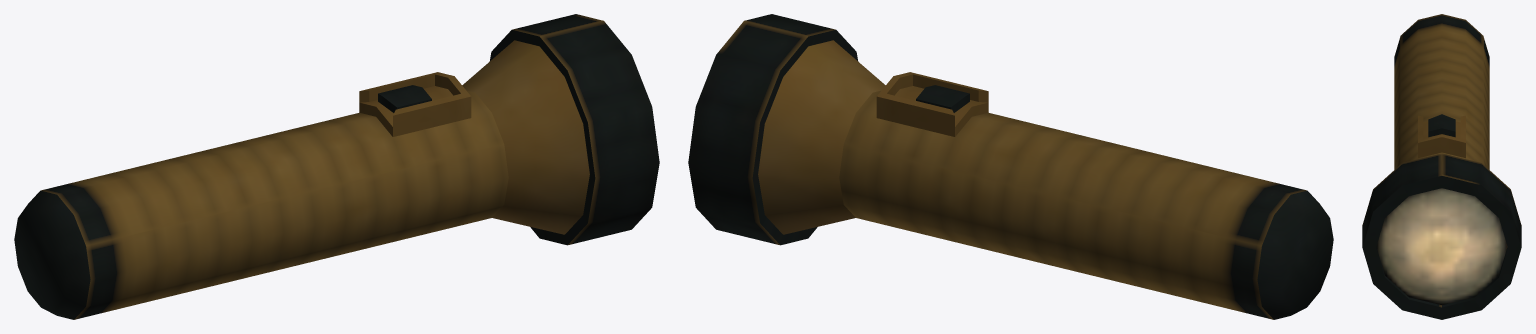
File: flashlight_mp_1.fbx
3 renders of one model, left to right at view 1: azimuth 30°, elevation 25°; view 2: azimuth 150°, elevation 25°; view 3: azimuth 270°, elevation 25°, orthographic. The views are drawn at different scales.
Visible parts, largest first — view 1: flashlight_mp_1; view 2: flashlight_mp_1; view 3: flashlight_mp_1.
Boxes of the visible parts, <box> form: flashlight_mp_1: <box>14,14,659,319</box>; flashlight_mp_1: <box>688,14,1333,319</box>; flashlight_mp_1: <box>1362,14,1521,319</box>.
Size of the model in its own units: 0.2327 by 0.078 by 0.078.
